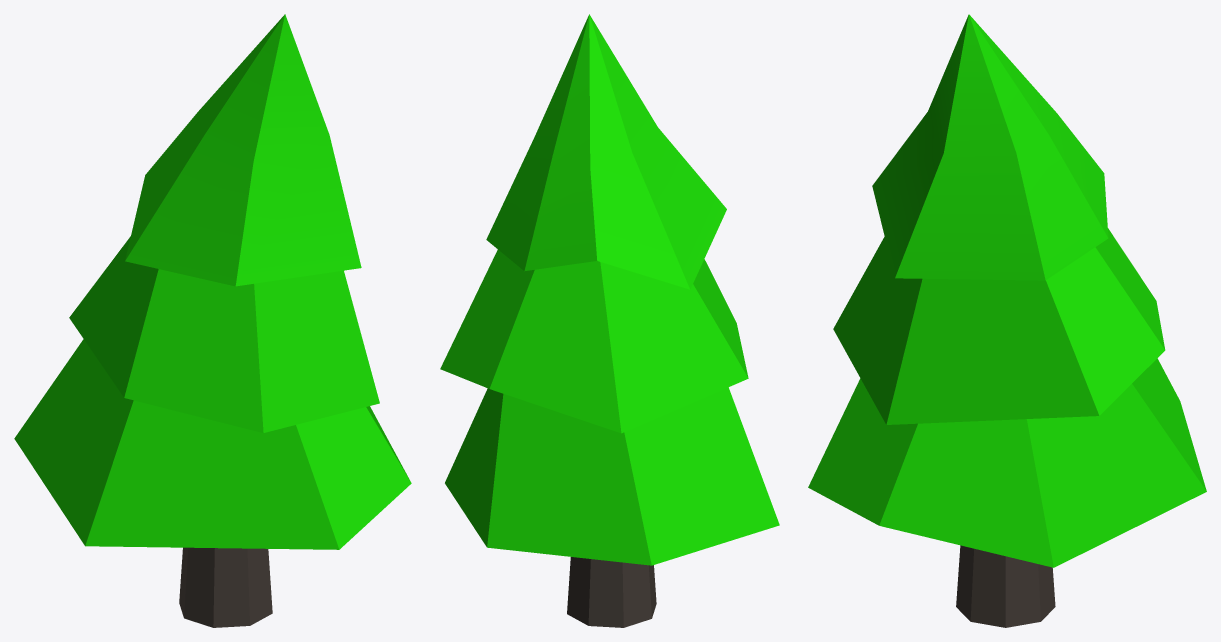
Rendered from SAPIN_TRUE.fbx.
3 views of the same model, side by side, from view 1: azimuth 30°, elevation 25°; view 2: azimuth 150°, elevation 25°; view 3: azimuth 270°, elevation 25° (orthographic). The views are drawn at different scales.
Parts seen in each view (by area): view 1: SAPIN.001; view 2: SAPIN.001; view 3: SAPIN.001.
Boxes of the visible parts, box(x1,y1,x2,y2) form: SAPIN.001: box(14, 14, 411, 627); SAPIN.001: box(440, 14, 779, 627); SAPIN.001: box(808, 14, 1206, 627).
Size of the model in its own units: 301 by 555 by 327.
